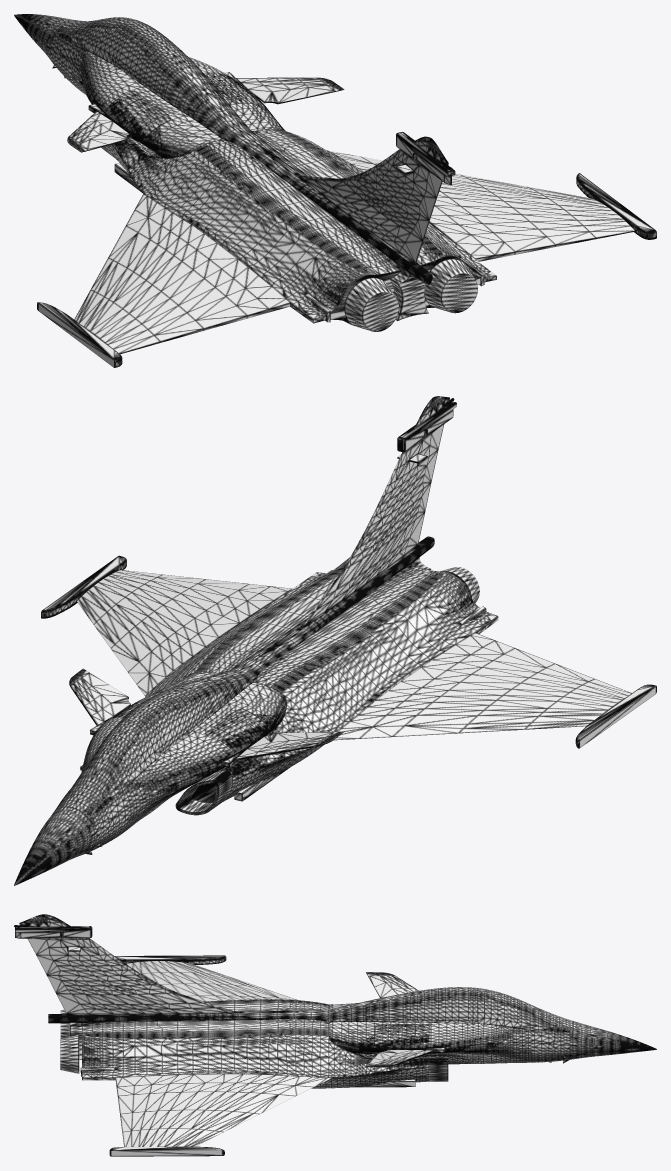
The model's file is rafale.obj.
3 views of the same model, one above another, from view 1: azimuth 30°, elevation 25°; view 2: azimuth 150°, elevation 25°; view 3: azimuth 270°, elevation 25° (orthographic). The views are drawn at different scales.
Visible parts, largest first — view 1: Rafale; view 2: Rafale; view 3: Rafale.
Boxes of the visible parts, box(x1,y1,x2,y2) form: Rafale: box(14, 14, 656, 367); Rafale: box(14, 396, 656, 885); Rafale: box(14, 914, 656, 1156).
Size of the model in its own units: 371 by 140 by 522.
1 material, 1 textured.
